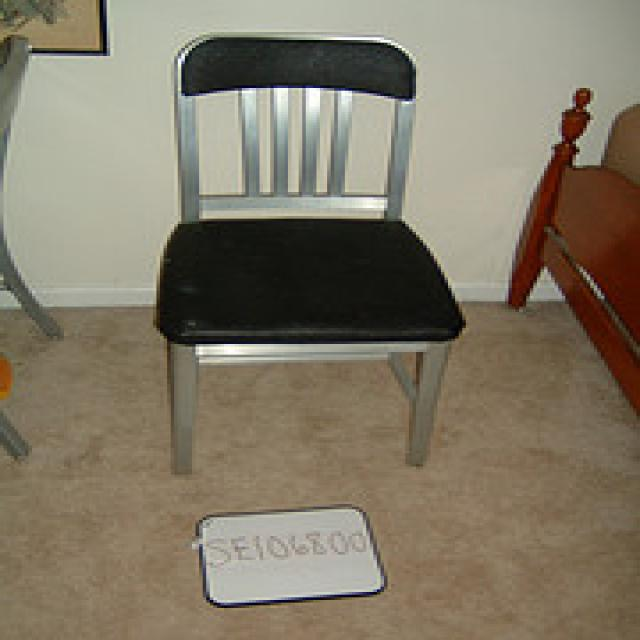chair: (149, 32, 466, 472), (0, 32, 64, 475)
